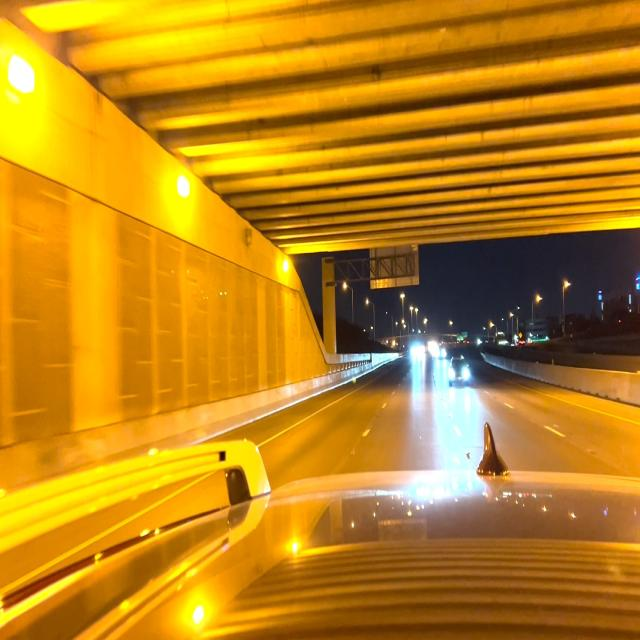back-of-sign: (370, 248, 420, 288)
